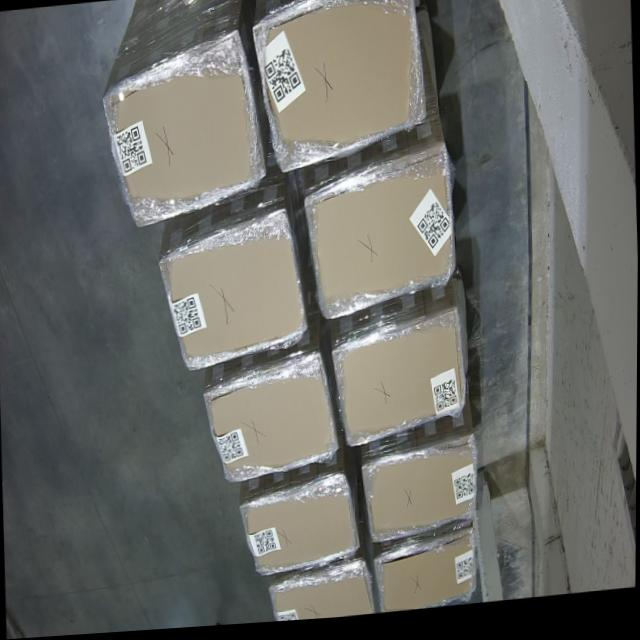pallet: (98, 27, 264, 235), (253, 0, 431, 180), (302, 154, 458, 328), (158, 215, 306, 374), (332, 314, 466, 452), (204, 357, 337, 486), (361, 436, 478, 547), (241, 477, 359, 581), (374, 531, 481, 617), (268, 565, 375, 625)
